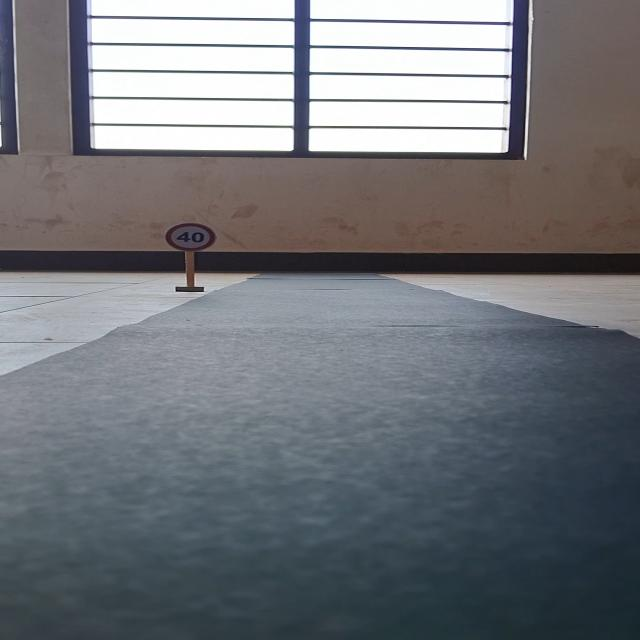Speed40: (166, 221, 217, 251)
